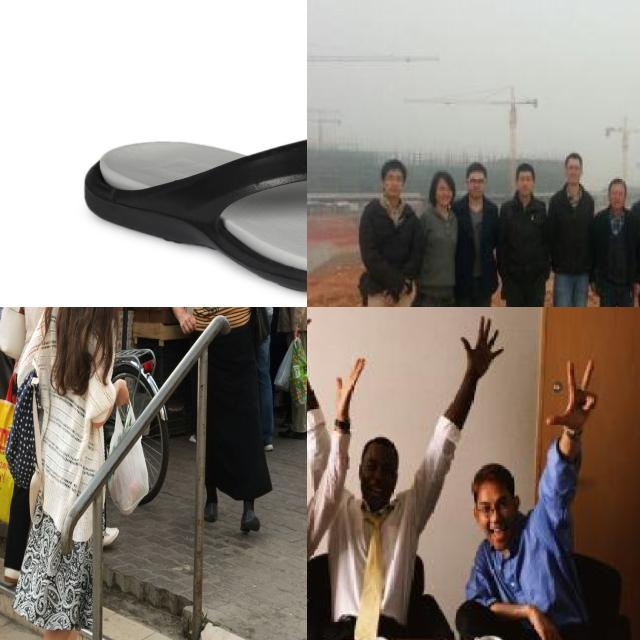Sandals: (80, 124, 307, 307)
face_nomask: (473, 491, 521, 557), (359, 454, 399, 510), (384, 172, 404, 196), (516, 172, 534, 194), (468, 176, 484, 197), (610, 188, 626, 208), (436, 185, 453, 203), (568, 163, 582, 184)
hand_noglove: (545, 360, 601, 433), (456, 314, 507, 374), (333, 351, 367, 423), (523, 600, 568, 640)
head_nohelmet: (467, 460, 519, 494), (362, 431, 404, 460), (381, 158, 408, 175), (466, 161, 487, 178), (432, 170, 454, 186), (608, 176, 626, 192), (564, 151, 582, 164), (516, 162, 533, 175)
person: (308, 425, 439, 640), (463, 464, 588, 640), (356, 157, 420, 307), (404, 164, 463, 307), (546, 151, 598, 307), (451, 160, 505, 307), (497, 163, 552, 307), (590, 171, 640, 307)
